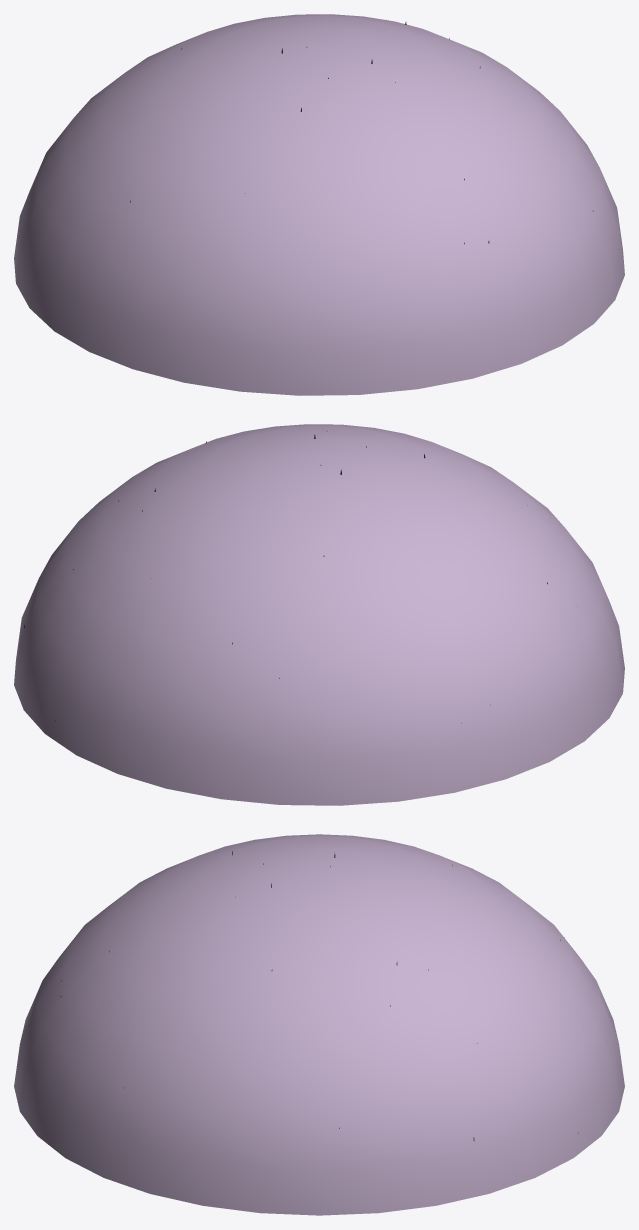
The model's file is particule_000003.obj.
The picture shows the model from 3 angles, top to bottom: view 1: azimuth 30°, elevation 25°; view 2: azimuth 150°, elevation 25°; view 3: azimuth 270°, elevation 25°; orthographic projection.
Parts seen in each view (by area): view 1: Sphère; view 2: Sphère; view 3: Sphère.
Boxes of the visible parts, bbox=[...] form: Sphère: bbox=[14, 14, 624, 395]; Sphère: bbox=[14, 424, 624, 805]; Sphère: bbox=[14, 834, 624, 1215].
Size of the model in its own units: 63430 by 25274 by 63430.
